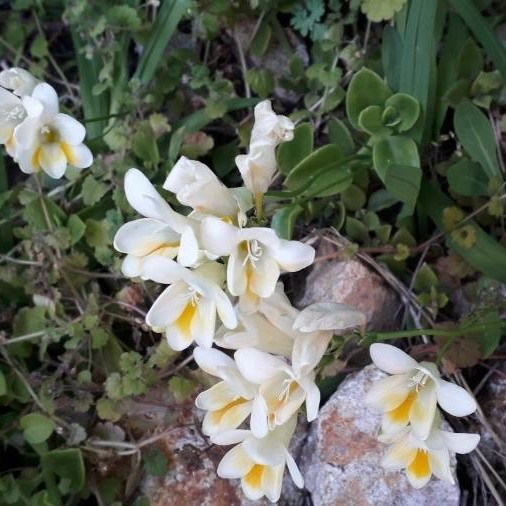obstacle: (106, 155, 325, 463), (307, 54, 486, 244), (25, 278, 152, 479), (358, 309, 494, 475), (5, 47, 90, 210)
